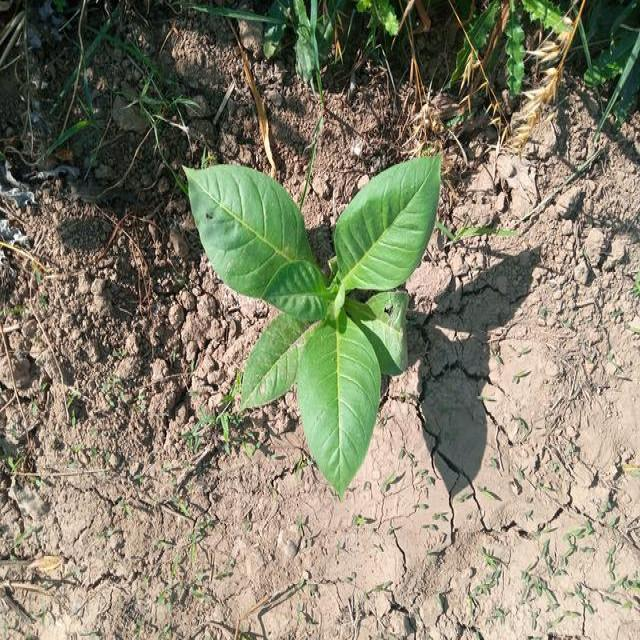crop: (181, 140, 447, 491)
